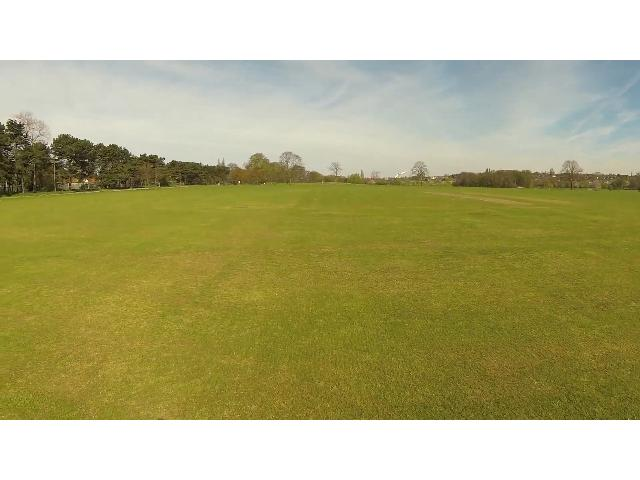Anti-Drone: (388, 169, 410, 183)
